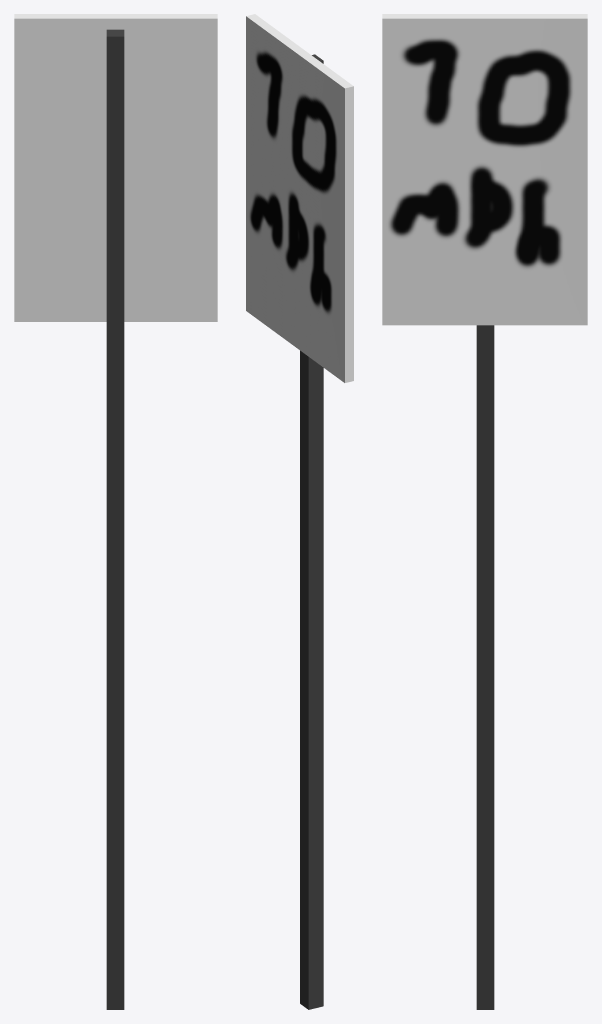
File: MonoCube.dae
3 renders of one model, left to right at view 1: azimuth 90°, elevation 25°; view 2: azimuth 210°, elevation 25°; view 3: azimuth 270°, elevation 25°, orthographic. The views are drawn at different scales.
Parts seen in each view (by area): view 1: Cube; view 2: Cube; view 3: Cube.
Part boxes in pixels (x1,y1,x2,y2): Cube: (14, 14, 217, 1009); Cube: (246, 14, 353, 1009); Cube: (382, 14, 587, 1009).
Size of the model in its own units: 0.0386 by 0.2808 by 1.5.
Materials: 1 (1 with a texture image).
